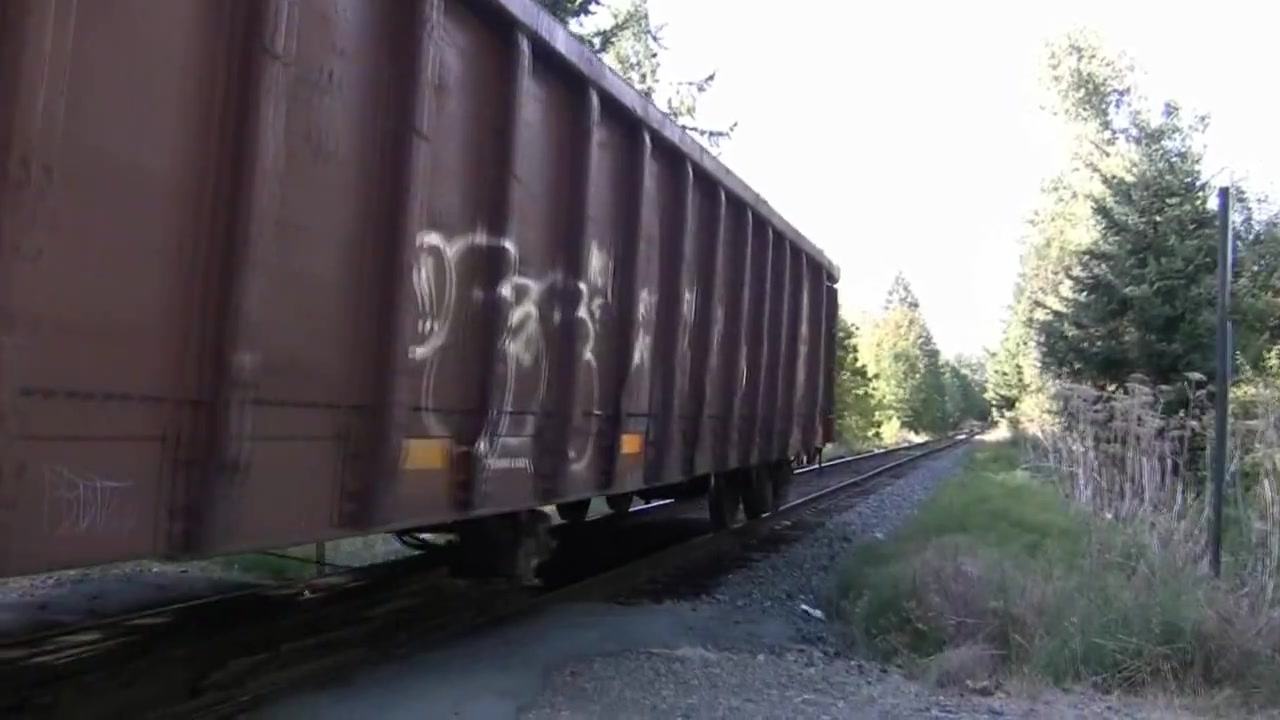train: (1, 1, 843, 618)
